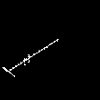treble_crochet: (3, 39, 57, 76)
